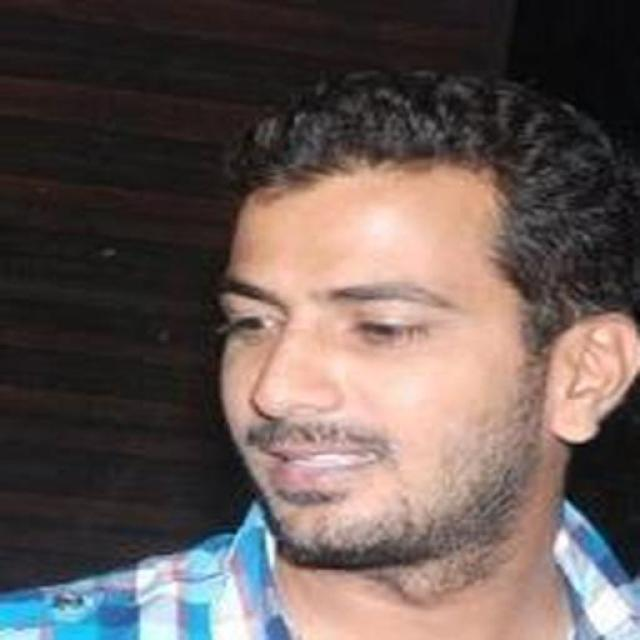bareface: (200, 111, 572, 584)
